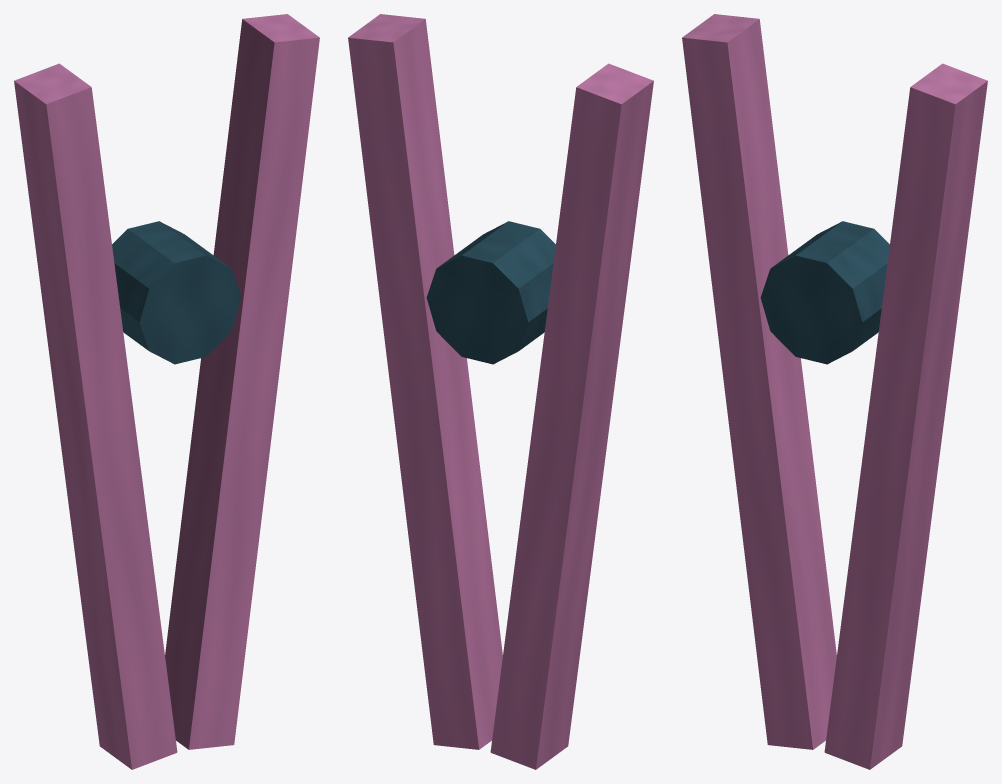
The model's file is atlas100-s064-a05.glb.
3 renders of one model, left to right at view 1: azimuth 30°, elevation 25°; view 2: azimuth 150°, elevation 25°; view 3: azimuth 330°, elevation 25°, orthographic.
Visible parts, largest first — view 1: atlas100-s064-a05:part-001, atlas100-s064-a05:part-000, atlas100-s064-a05:part-002; view 2: atlas100-s064-a05:part-001, atlas100-s064-a05:part-000, atlas100-s064-a05:part-002; view 3: atlas100-s064-a05:part-000, atlas100-s064-a05:part-001, atlas100-s064-a05:part-002.
Boxes of the visible parts, x1=… form: atlas100-s064-a05:part-001: x1=165, y1=14, x2=319, y2=749; atlas100-s064-a05:part-000: x1=14, y1=63, x2=177, y2=769; atlas100-s064-a05:part-002: x1=112, y1=221, x2=241, y2=364; atlas100-s064-a05:part-001: x1=348, y1=14, x2=502, y2=749; atlas100-s064-a05:part-000: x1=490, y1=63, x2=653, y2=769; atlas100-s064-a05:part-002: x1=426, y1=221, x2=555, y2=364; atlas100-s064-a05:part-000: x1=682, y1=14, x2=836, y2=749; atlas100-s064-a05:part-001: x1=824, y1=63, x2=987, y2=769; atlas100-s064-a05:part-002: x1=760, y1=221, x2=889, y2=364.
Size of the model in its own units: 0.2936 by 0.7102 by 0.0874.
2 materials, 2 textured.
